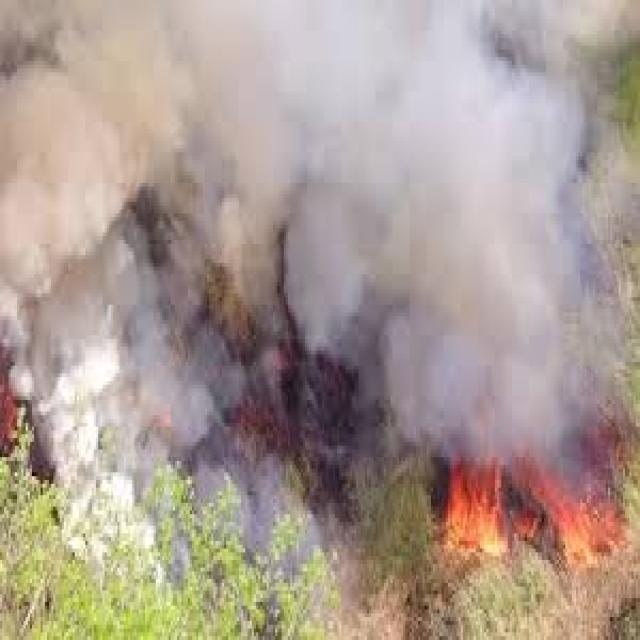Fire: (426, 449, 625, 579)
Smoke: (0, 0, 354, 552), (352, 0, 634, 446)
